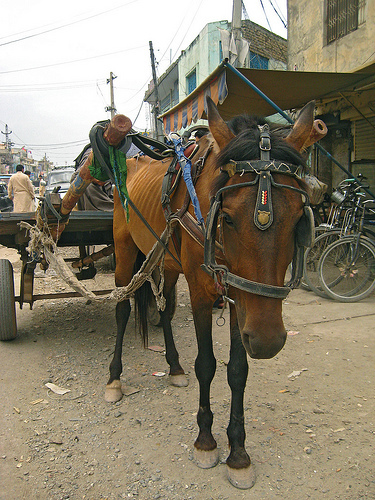horse: (101, 94, 331, 493)
